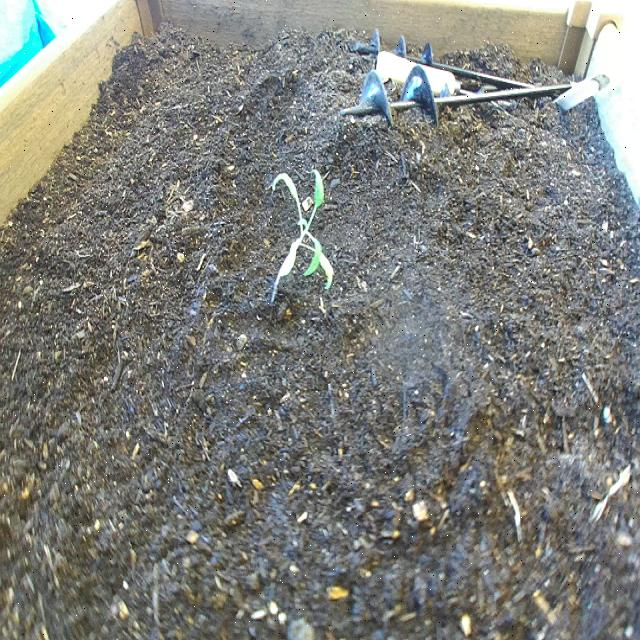Healthy: (260, 153, 342, 321)
